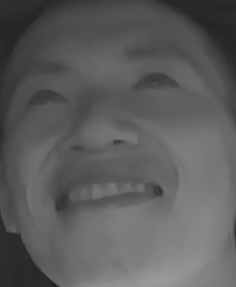eye: (130, 64, 180, 99), (21, 83, 71, 115)
mouth: (50, 163, 170, 220)
